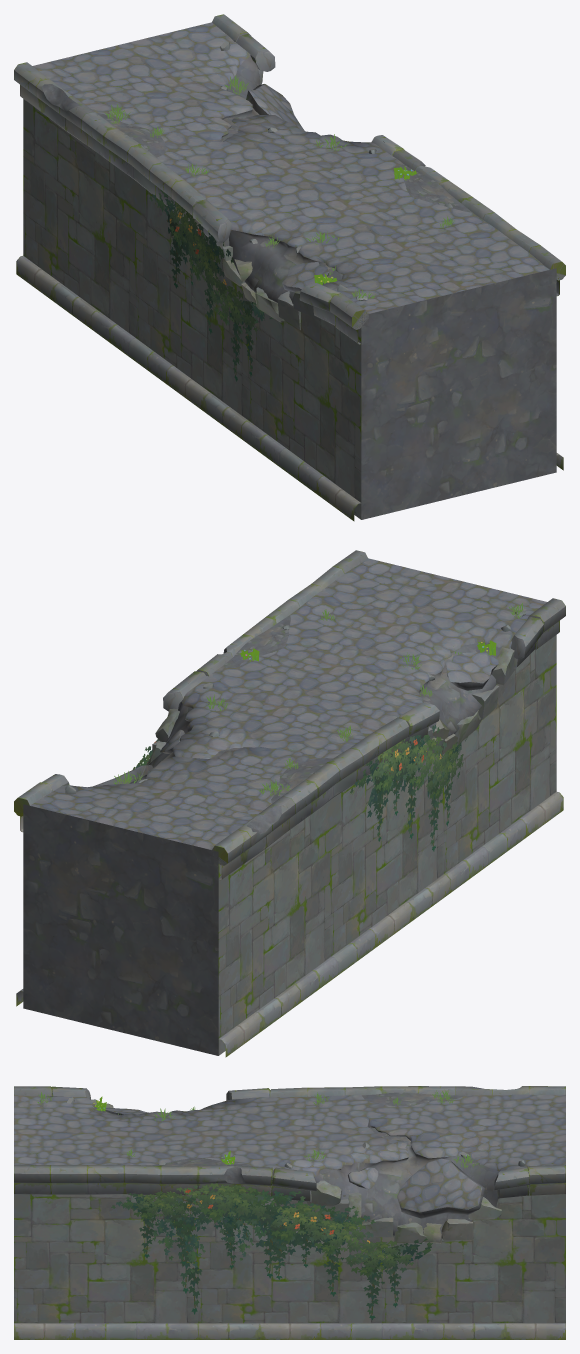
Rendered from Area_MdBuild_SdPlatform02_Group.fbx.
3 views of the same model, one above another, from view 1: azimuth 30°, elevation 25°; view 2: azimuth 150°, elevation 25°; view 3: azimuth 270°, elevation 25° (orthographic). The views are drawn at different scales.
Visible parts, largest first — view 1: Area_MdBuild_SdPlatform02_Lod0, Stages_LYLvy106_Vo (1); view 2: Area_MdBuild_SdPlatform02_Lod0, Stages_LYLvy106_Vo (1); view 3: Area_MdBuild_SdPlatform02_Lod0, Stages_LYLvy02_Vo (1), Stages_LYLvy106_Vo (2).
Boxes of the visible parts, bbox=[...] form: Area_MdBuild_SdPlatform02_Lod0: bbox=[14, 14, 565, 521]; Stages_LYLvy106_Vo (1): bbox=[149, 190, 272, 381]; Area_MdBuild_SdPlatform02_Lod0: bbox=[14, 550, 565, 1057]; Stages_LYLvy106_Vo (1): bbox=[350, 725, 467, 851]; Area_MdBuild_SdPlatform02_Lod0: bbox=[14, 1086, 565, 1339]; Stages_LYLvy02_Vo (1): bbox=[111, 1183, 322, 1314]; Stages_LYLvy106_Vo (2): bbox=[233, 1195, 432, 1320].
Size of what is drawn, in the model's own units: 11.91 by 10.68 by 30.
Materials: 8 (8 with a texture image).
